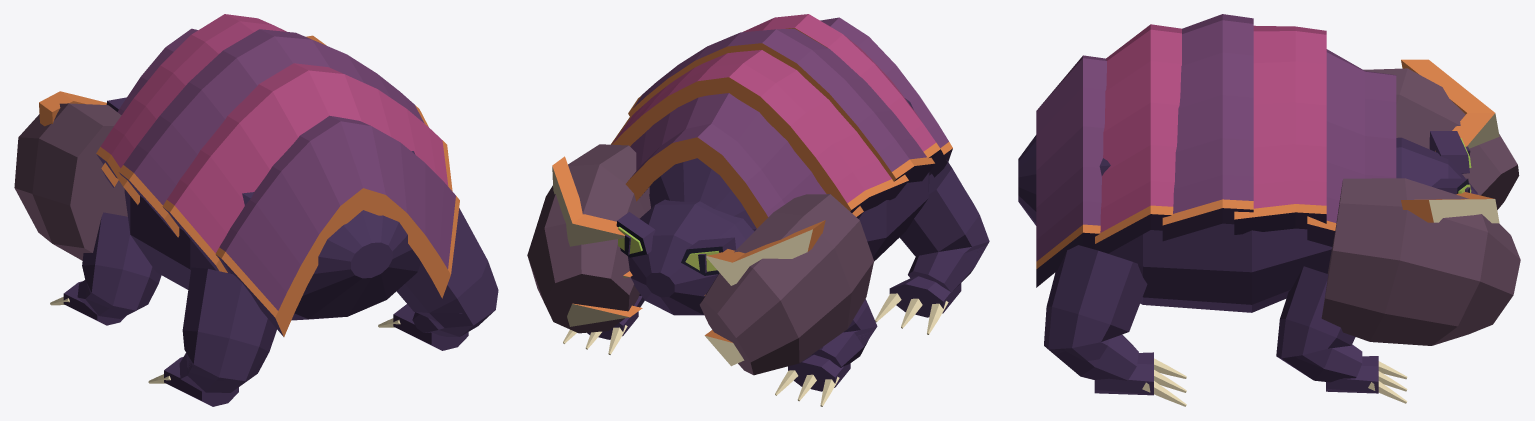
The model's file is CaveArmored_D3-14.fbx.
3 views of the same model, side by side, from view 1: azimuth 30°, elevation 25°; view 2: azimuth 150°, elevation 25°; view 3: azimuth 270°, elevation 25° (orthographic). The views are drawn at different scales.
Parts seen in each view (by area): view 1: Carapace, Shield_L, Leg_BL, Leg_BR, Leg_FL, Shin_BR, Shin_BL, Shin_FL; view 2: Carapace, Shield_L, Shield_R, Head, Leg_BL, Shin_BL, Shin_FL, Leg_FL, Shin_FR, Jaw; view 3: Carapace, Shield_R, Leg_BR, Shield_L, Leg_FR, Shin_BR, Head, Shin_FR.
Boxes of the visible parts, x1,y1,x2,y2 form: Carapace: (96,14,459,336); Shield_L: (14,91,127,260); Leg_BL: (182,267,276,380); Leg_BR: (396,208,498,322); Leg_FL: (82,212,161,308); Shin_BR: (378,302,490,350); Shin_BL: (148,353,268,406); Shin_FL: (50,280,158,325); Carapace: (611,14,952,261); Shield_L: (699,194,873,375); Shield_R: (527,144,650,333); Head: (616,199,754,305); Leg_BL: (900,160,989,268); Shin_BL: (875,245,987,334); Shin_FL: (775,330,874,406); Leg_FL: (818,299,877,354); Shin_FR: (563,294,644,354); Jaw: (635,285,703,315); Carapace: (1018,14,1396,312); Shield_R: (1321,178,1520,345); Leg_BR: (1044,245,1147,360); Shield_L: (1363,59,1519,209); Leg_FR: (1276,266,1358,367); Shin_BR: (1044,336,1186,406); Head: (1396,131,1477,194); Shin_FR: (1276,344,1407,403).
Size of the model in its own units: 1.07 by 0.9664 by 1.4.
Materials: 1 (1 with a texture image).
